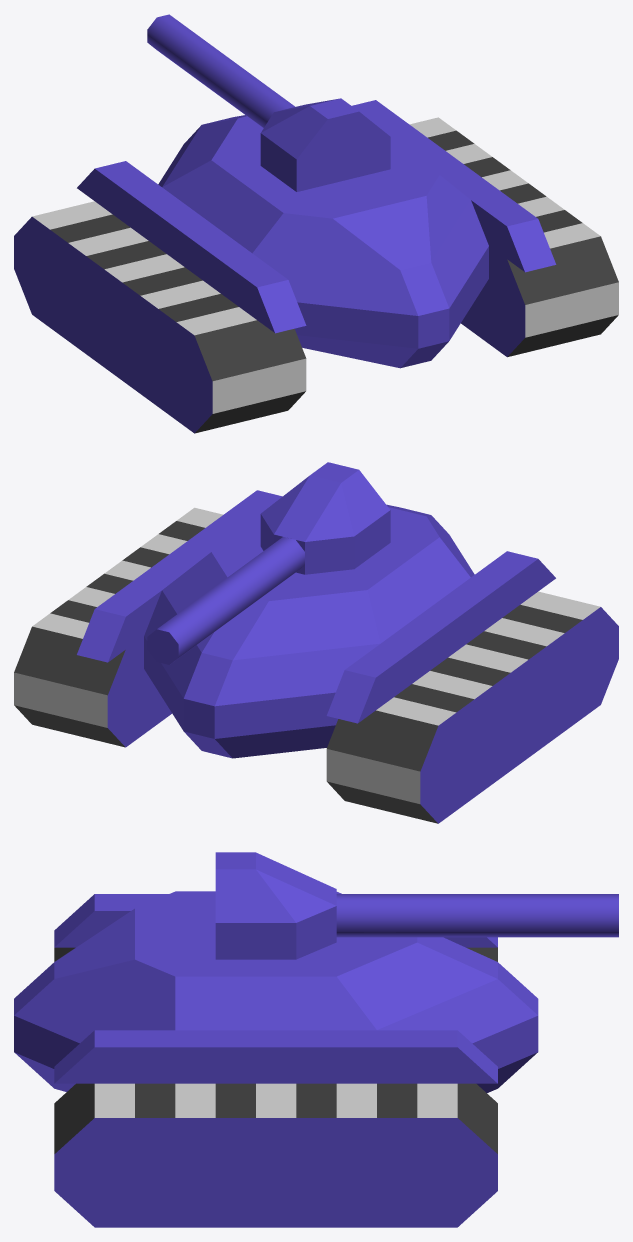
File: enemyA.fbx
3 views of the same model, one above another, from view 1: azimuth 30°, elevation 25°; view 2: azimuth 150°, elevation 25°; view 3: azimuth 270°, elevation 25° (orthographic). The views are drawn at different scales.
Parts seen in each view (by area): view 1: enemyA; view 2: enemyA; view 3: enemyA.
Part boxes in pixels (x1,y1,x2,y2): enemyA: (14,14,618,433); enemyA: (14,462,618,823); enemyA: (14,852,618,1227).
Size of the model in its own units: 1.62 by 0.875 by 1.88.
